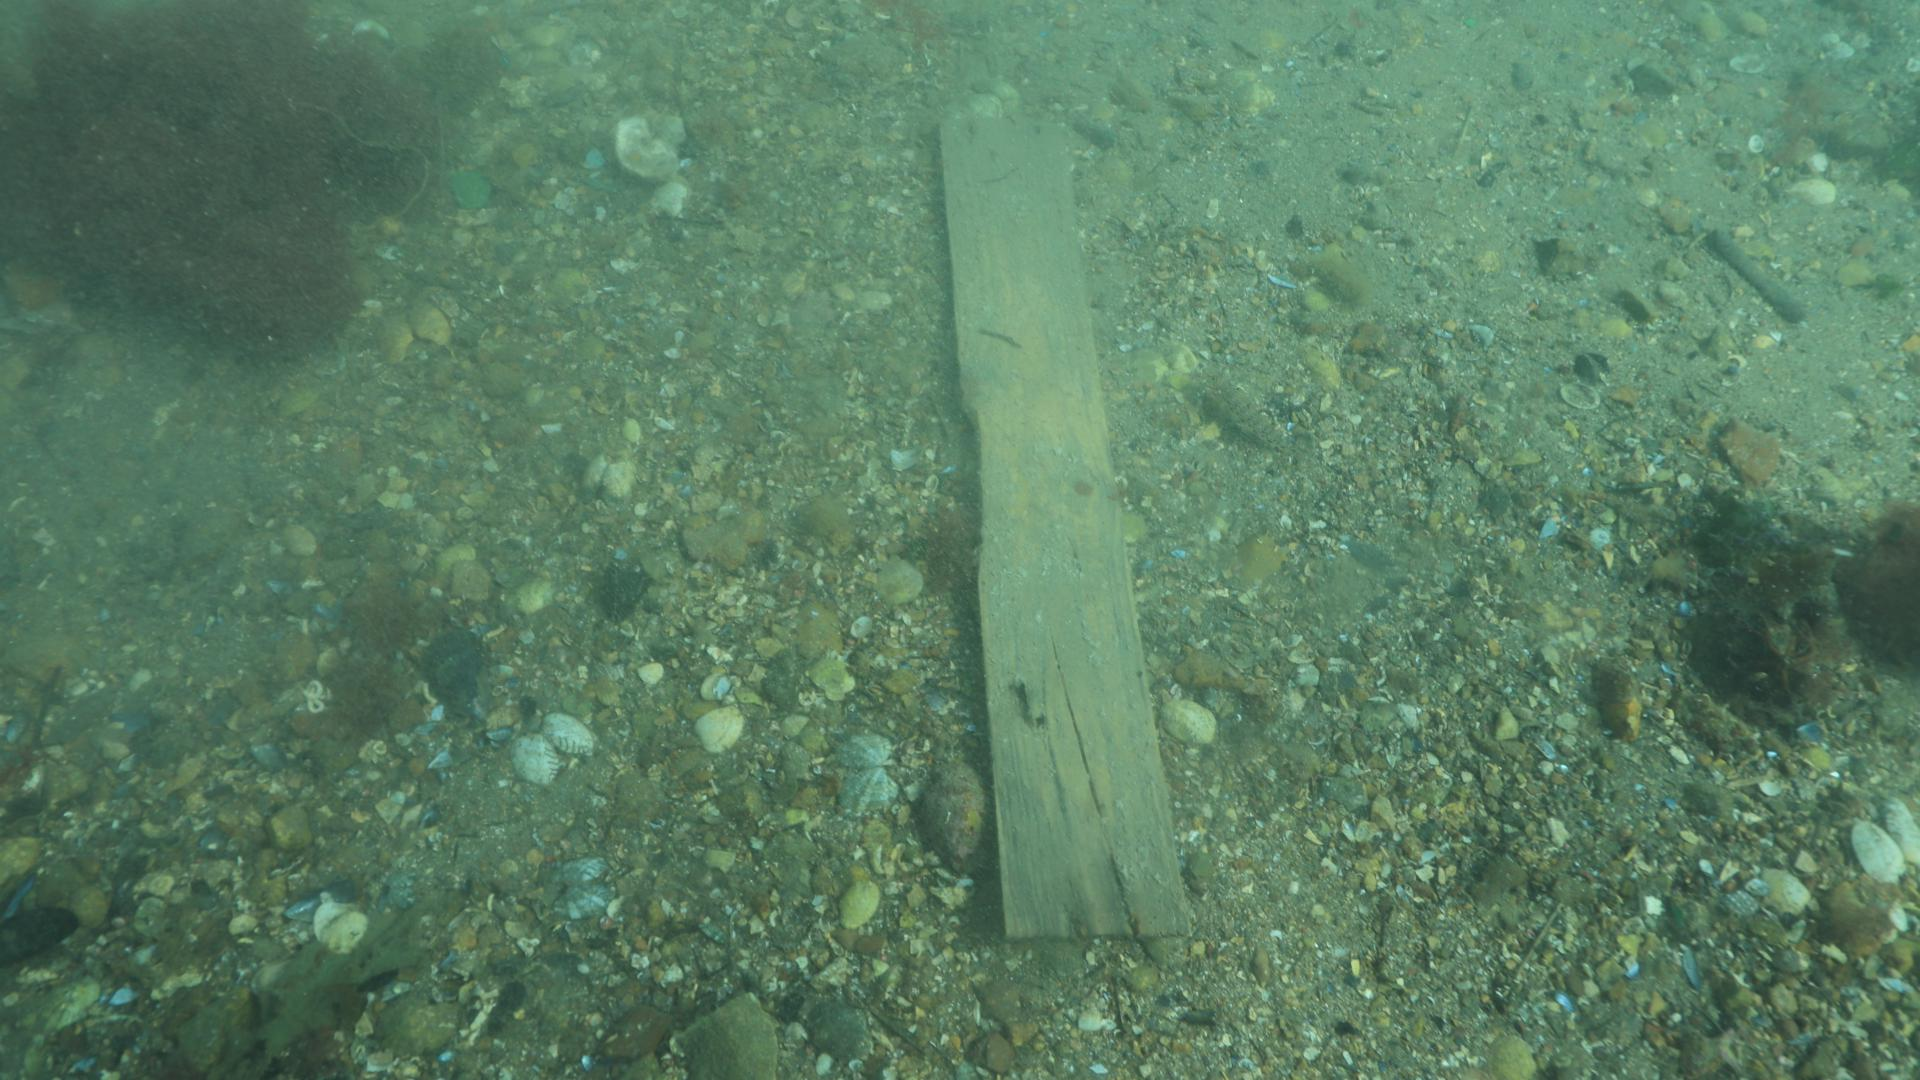wood: (934, 111, 1197, 945)
